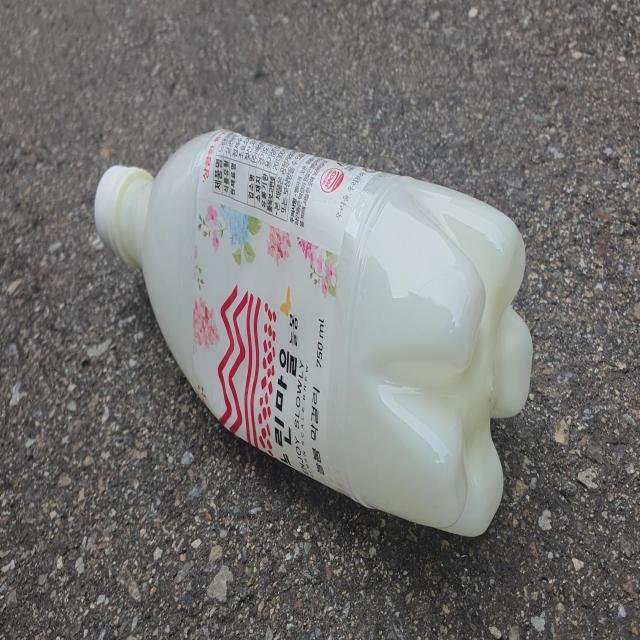plastic: (94, 129, 533, 536)
